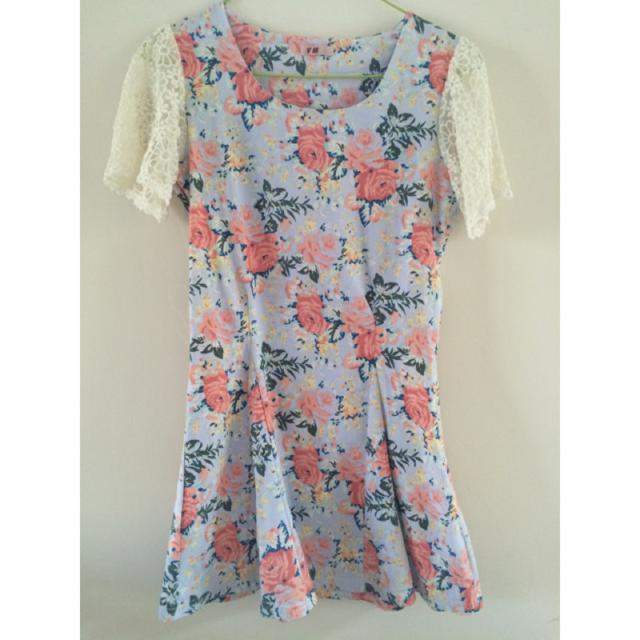Dresses: (107, 6, 492, 616)
